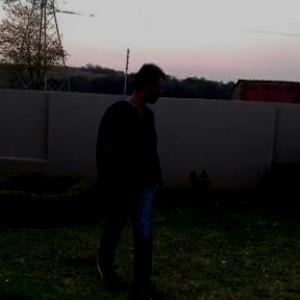follow: (94, 55, 168, 275)
